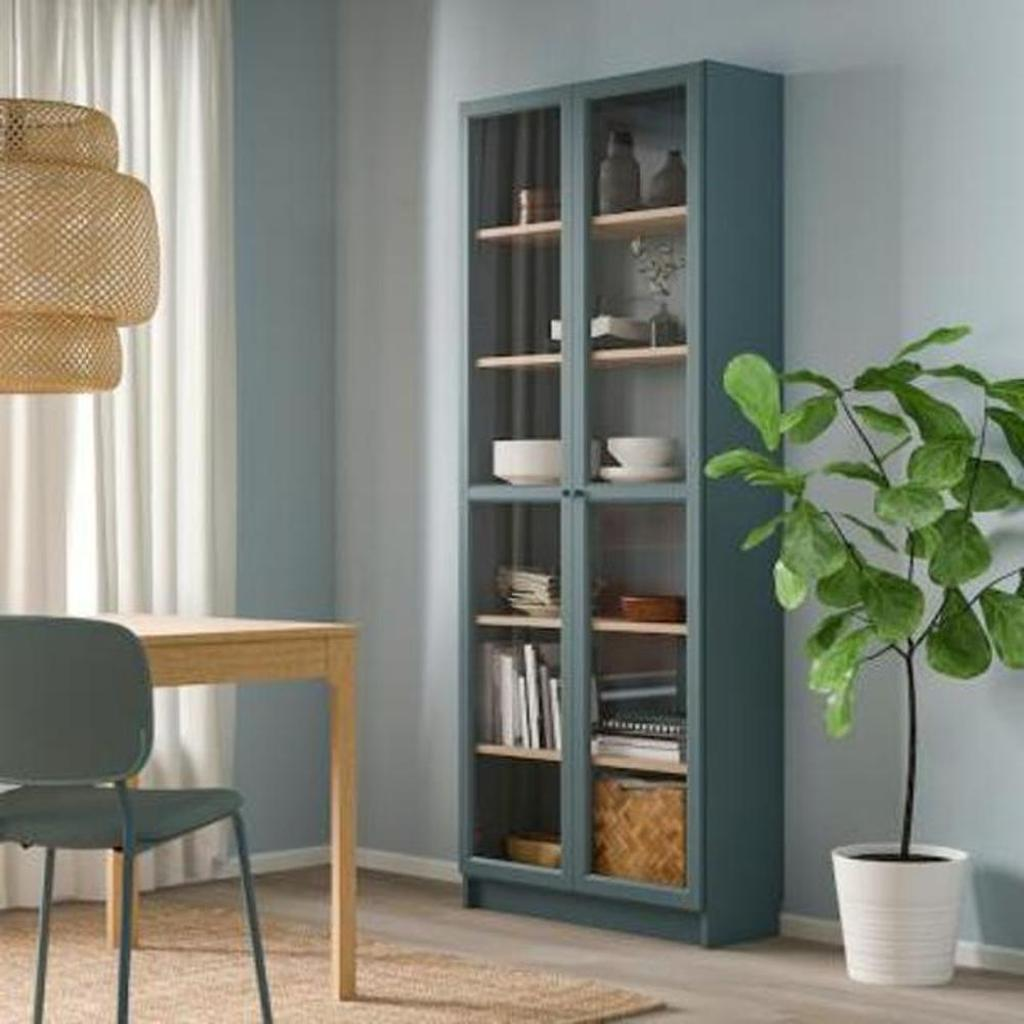lamp: (455, 59, 788, 950)
